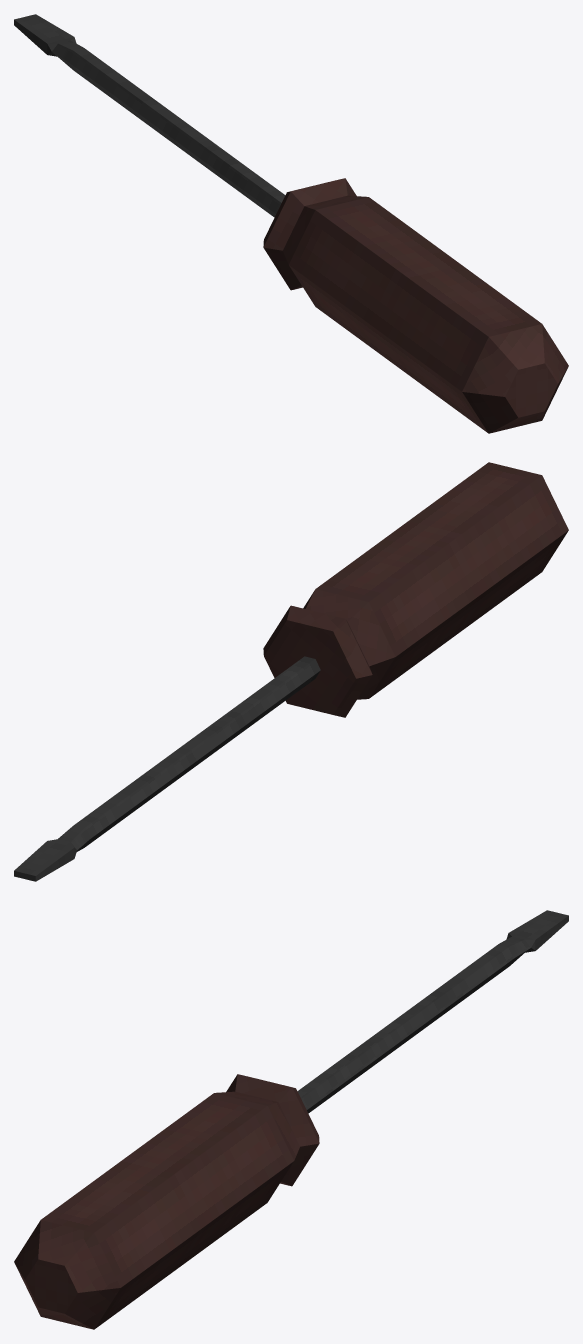
File: screwdriver_mp_1.glb
3 views of the same model, one above another, from view 1: azimuth 30°, elevation 25°; view 2: azimuth 150°, elevation 25°; view 3: azimuth 330°, elevation 25° (orthographic).
Visible parts, largest first — view 1: screwdriver_mp_1; view 2: screwdriver_mp_1; view 3: screwdriver_mp_1.
Part boxes in pixels (x1=…): screwdriver_mp_1: x1=14, y1=14, x2=568, y2=433; screwdriver_mp_1: x1=14, y1=462, x2=568, y2=881; screwdriver_mp_1: x1=14, y1=910, x2=568, y2=1329.
Bounding box in the file's own units: 0.0393 × 0.034 × 0.3156.
Materials: 1 (1 with a texture image).
